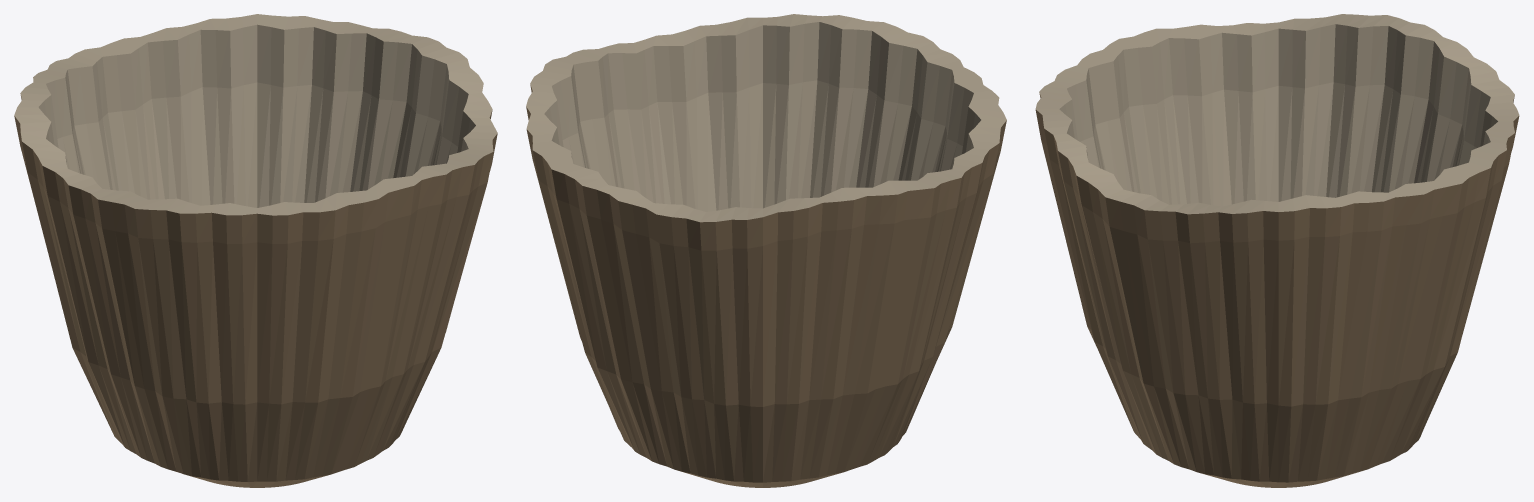
The picture shows the model from 3 angles, left to right: view 1: azimuth 30°, elevation 25°; view 2: azimuth 150°, elevation 25°; view 3: azimuth 270°, elevation 25°; orthographic projection.
Parts seen in each view (by area): view 1: WholeFlutedPeridiumAndBasalWeb; view 2: WholeFlutedPeridiumAndBasalWeb; view 3: WholeFlutedPeridiumAndBasalWeb.
Part boxes in pixels (<box>): WholeFlutedPeridiumAndBasalWeb: <box>14,14,497,487</box>; WholeFlutedPeridiumAndBasalWeb: <box>526,14,1006,487</box>; WholeFlutedPeridiumAndBasalWeb: <box>1035,14,1519,487</box>.
Bounding box in the file's own units: 0.056 × 0.0443 × 0.0561.
